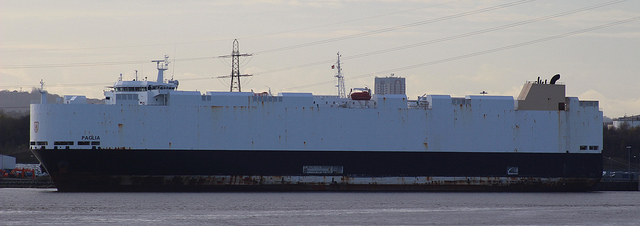PCC: (29, 62, 608, 196)
